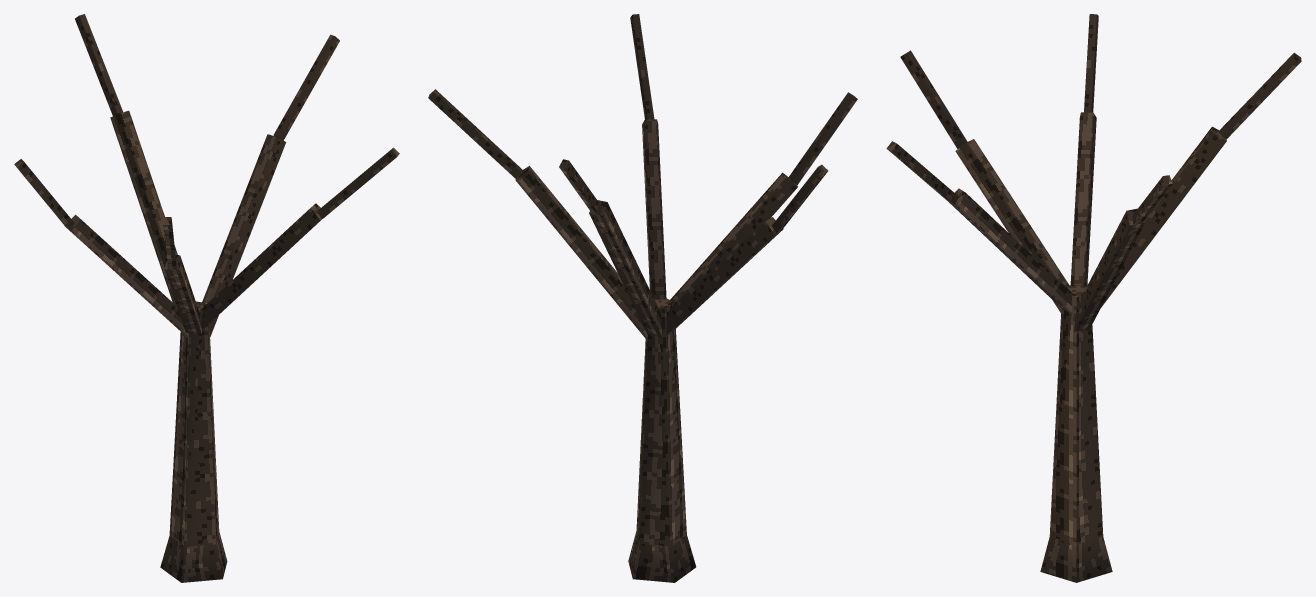
Rendered from mnat.dead_tree.glb.
3 renders of one model, left to right at view 1: azimuth 30°, elevation 25°; view 2: azimuth 150°, elevation 25°; view 3: azimuth 270°, elevation 25°, orthographic. The views are drawn at different scales.
Visible parts, largest first — view 1: kit_trunk; view 2: kit_trunk; view 3: kit_trunk.
Boxes of the visible parts, bbox=[...] form: kit_trunk: bbox=[14, 14, 399, 582]; kit_trunk: bbox=[428, 14, 857, 582]; kit_trunk: bbox=[886, 14, 1301, 582].
Bounding box in the file's own units: 4.64 × 5.96 × 4.42.
Materials: 1 (1 with a texture image).
